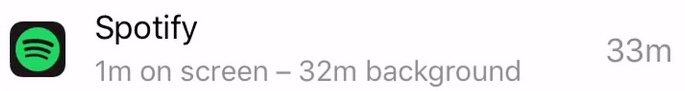name: (85, 7, 211, 49)
time: (296, 53, 361, 91), (92, 52, 137, 89)
